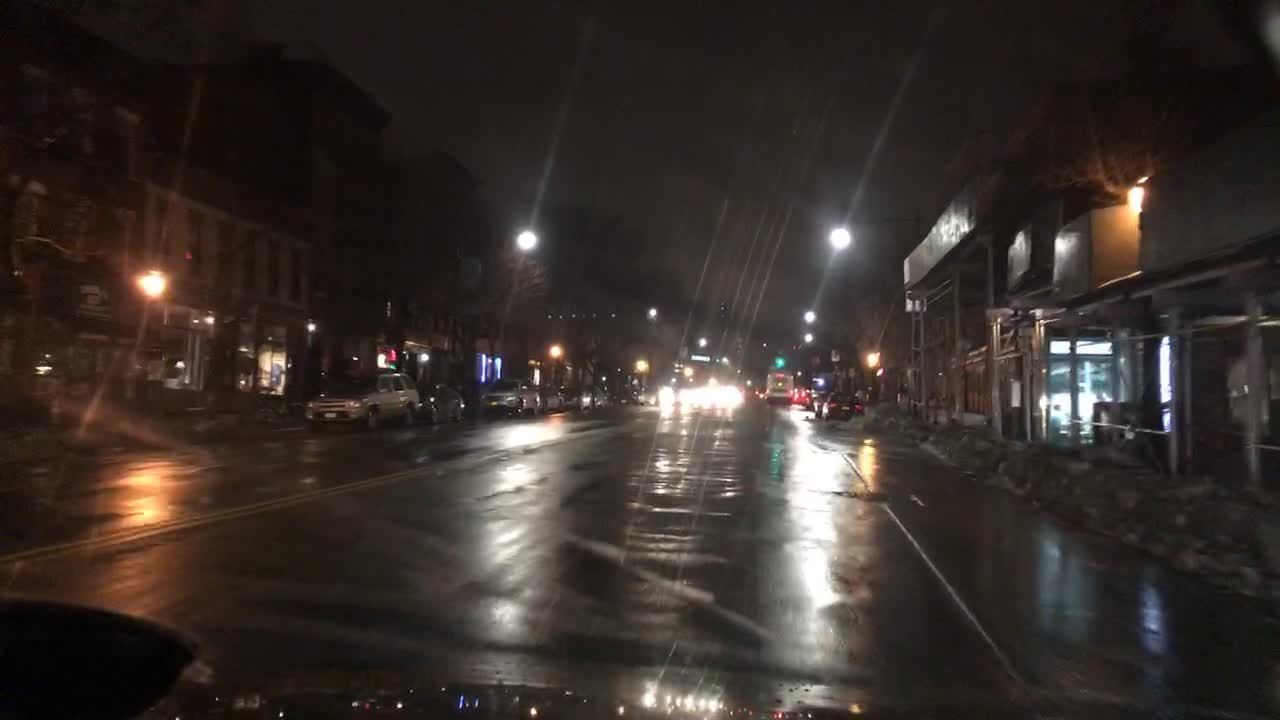bus: (765, 370, 795, 403)
car: (302, 370, 423, 431), (482, 375, 540, 415), (416, 382, 466, 423), (636, 384, 674, 409), (823, 392, 853, 421), (559, 385, 592, 408), (706, 385, 741, 406), (673, 385, 704, 406), (538, 387, 566, 410), (804, 384, 828, 410), (811, 389, 828, 417), (589, 384, 610, 406), (851, 391, 867, 416), (788, 387, 811, 403)
traffic light: (866, 350, 883, 371), (772, 355, 786, 369)
